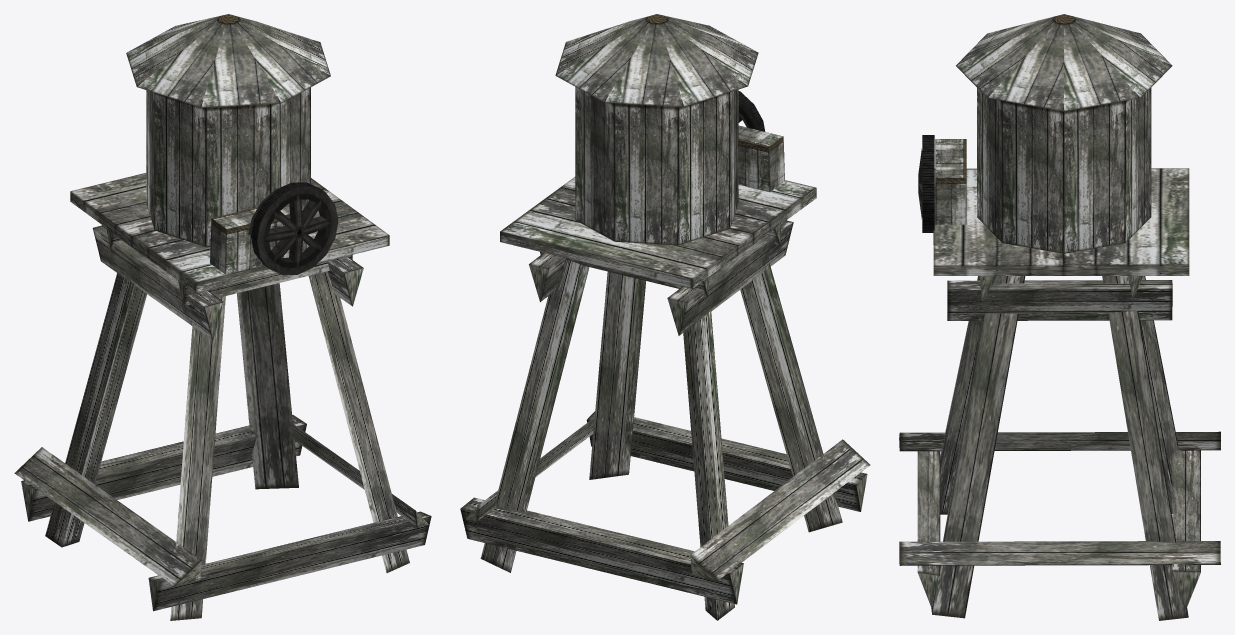
File: cave_conveyor_tower.fbx
The picture shows the model from 3 angles, left to right: view 1: azimuth 30°, elevation 25°; view 2: azimuth 150°, elevation 25°; view 3: azimuth 270°, elevation 25°; orthographic projection. The views are drawn at different scales.
Parts seen in each view (by area): view 1: pCylinder1, pCylinder2, polySurface1, pCube26, pCube5, pCube9, pCube25, pCube13, pCube23, pCube12, pCube20, pCube3 (+10 smaller); view 2: pCylinder1, pCylinder2, polySurface1, pCube12, pCube5, pCube23, pCube25, pCube13, pCube9, pCube26, pCube20, pCube3 (+3 smaller); view 3: pCylinder1, pCylinder2, polySurface1, pCube23, pCube5, pCube19, pCube14, pCube13, pCube12, pCube25, pCube26, pCube3 (+2 smaller).
Boxes of the visible parts, x1,y1,x2,y2 form: pCylinder1: (146, 87, 310, 247); pCylinder2: (126, 14, 330, 107); polySurface1: (70, 173, 389, 292); pCube26: (148, 511, 431, 611); pCube5: (237, 283, 298, 489); pCube9: (45, 273, 146, 547); pCube25: (170, 296, 225, 620); pCube13: (14, 447, 201, 586); pCube23: (308, 271, 409, 572); pCube12: (21, 415, 306, 521); pCube20: (92, 225, 223, 340); pCube3: (210, 204, 306, 274); pCylinder1: (575, 87, 738, 245); pCylinder2: (555, 14, 758, 106); polySurface1: (500, 177, 816, 288); pCube12: (460, 497, 743, 604); pCube5: (480, 259, 589, 572); pCube23: (589, 271, 645, 479); pCube25: (740, 263, 842, 532); pCube13: (690, 439, 870, 580); pCube9: (683, 310, 734, 620); pCube26: (586, 411, 867, 511); pCube20: (667, 220, 793, 335); pCube3: (738, 125, 784, 192); pCylinder1: (977, 88, 1151, 253); pCylinder2: (956, 14, 1172, 111); polySurface1: (933, 168, 1189, 275); pCube23: (931, 276, 1025, 618); pCube5: (1102, 276, 1188, 620); pCube19: (947, 280, 1172, 320); pCube14: (899, 541, 1220, 565); pCube13: (899, 431, 1220, 451); pCube12: (1172, 450, 1200, 608); pCube25: (940, 276, 981, 514); pCube26: (917, 451, 940, 606); pCube3: (935, 139, 966, 224).
Size of the model in its own units: 1645 by 3125 by 1648.
Materials: 2 (2 with a texture image).
